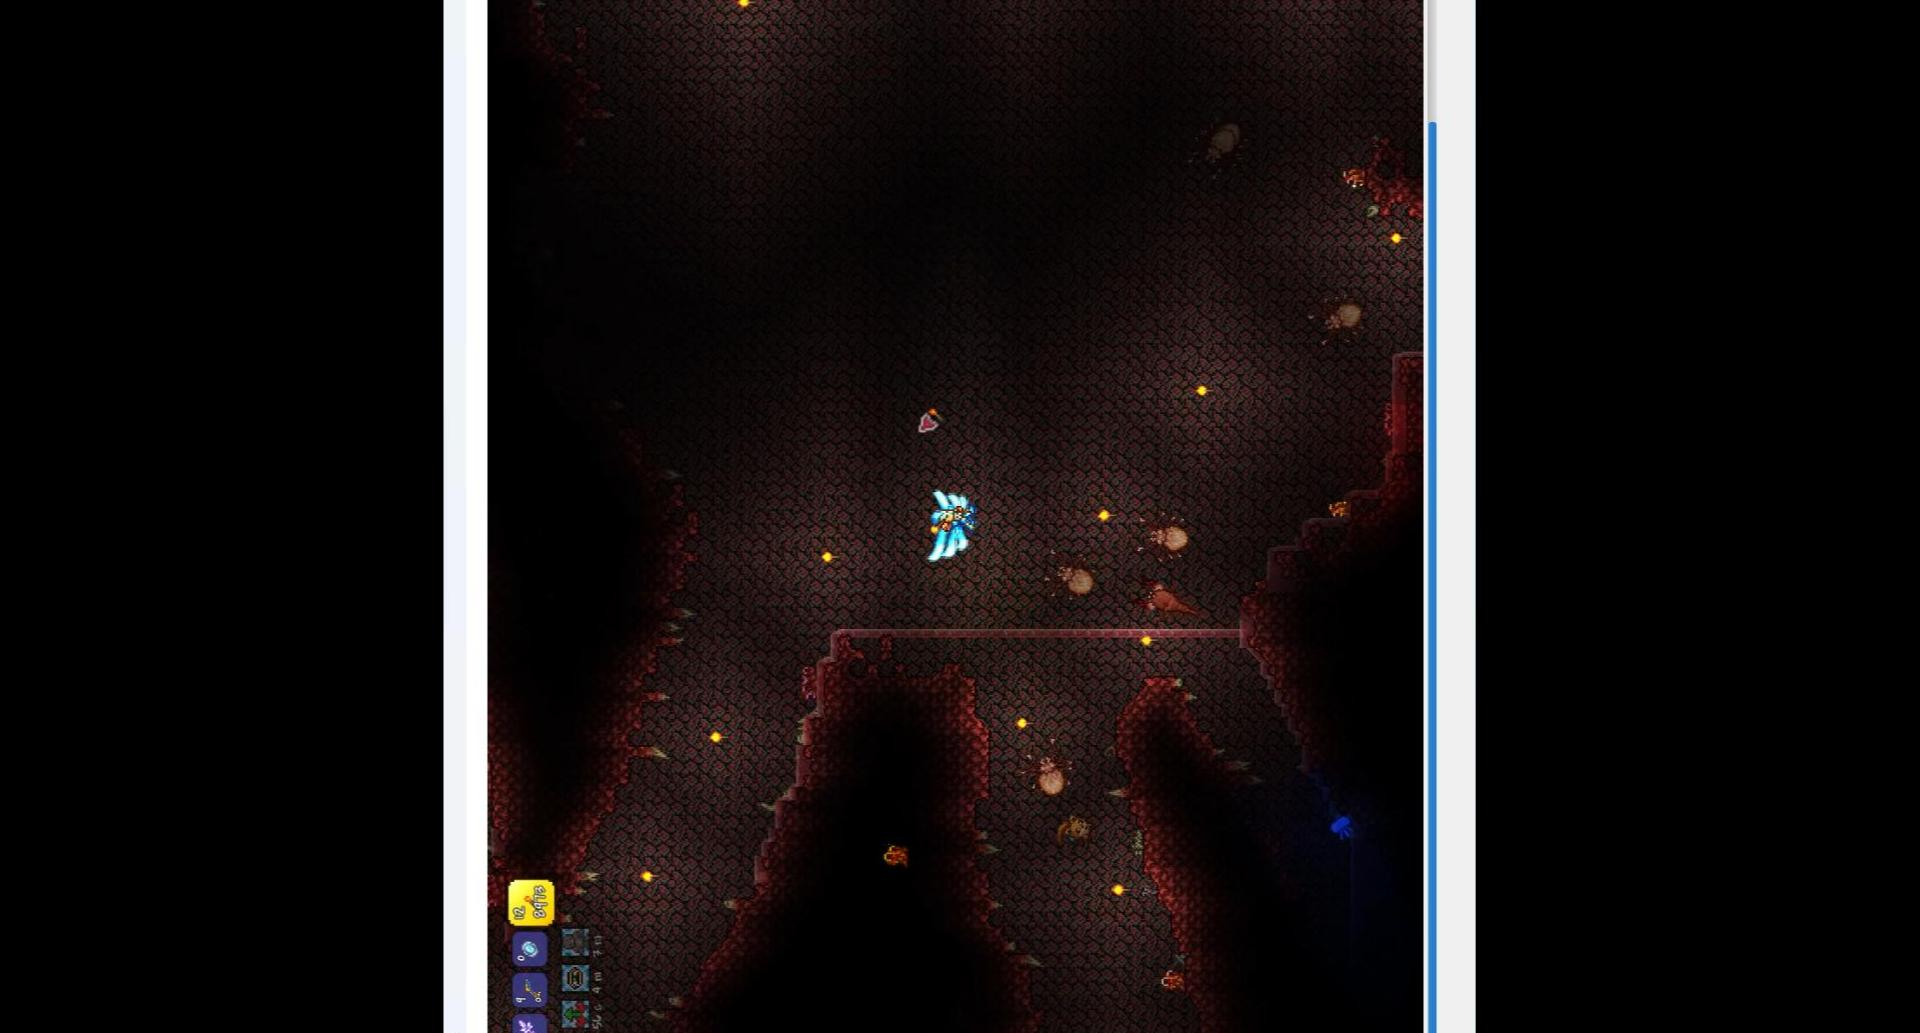crimera: (1128, 575, 1198, 618)
spider: (1306, 289, 1369, 351), (1036, 541, 1102, 599), (1018, 737, 1074, 804), (1132, 506, 1189, 561)
